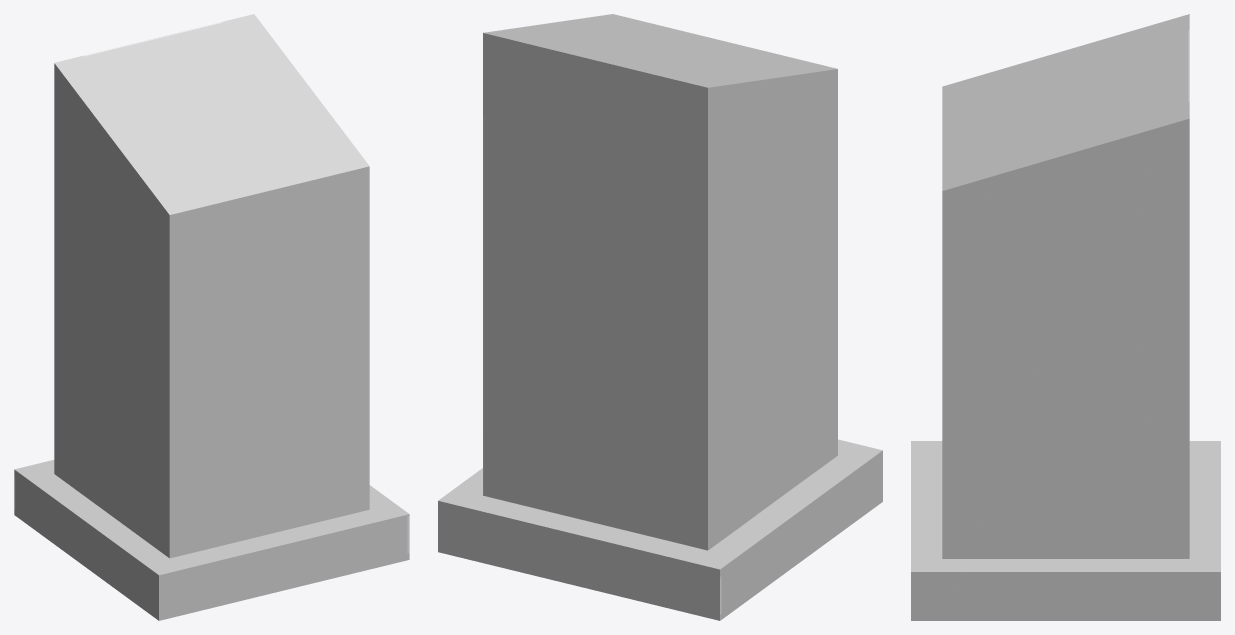
File: estande.obj
The picture shows the model from 3 angles, left to right: view 1: azimuth 30°, elevation 25°; view 2: azimuth 150°, elevation 25°; view 3: azimuth 270°, elevation 25°; orthographic projection. The views are drawn at different scales.
Visible parts, largest first — view 1: estande; view 2: estande; view 3: estande.
Boxes of the visible parts, x1,y1,x2,y2 form: estande: [14, 14, 409, 620]; estande: [438, 14, 882, 620]; estande: [911, 14, 1220, 620].
Size of the model in its own units: 2 by 3.48 by 2.
